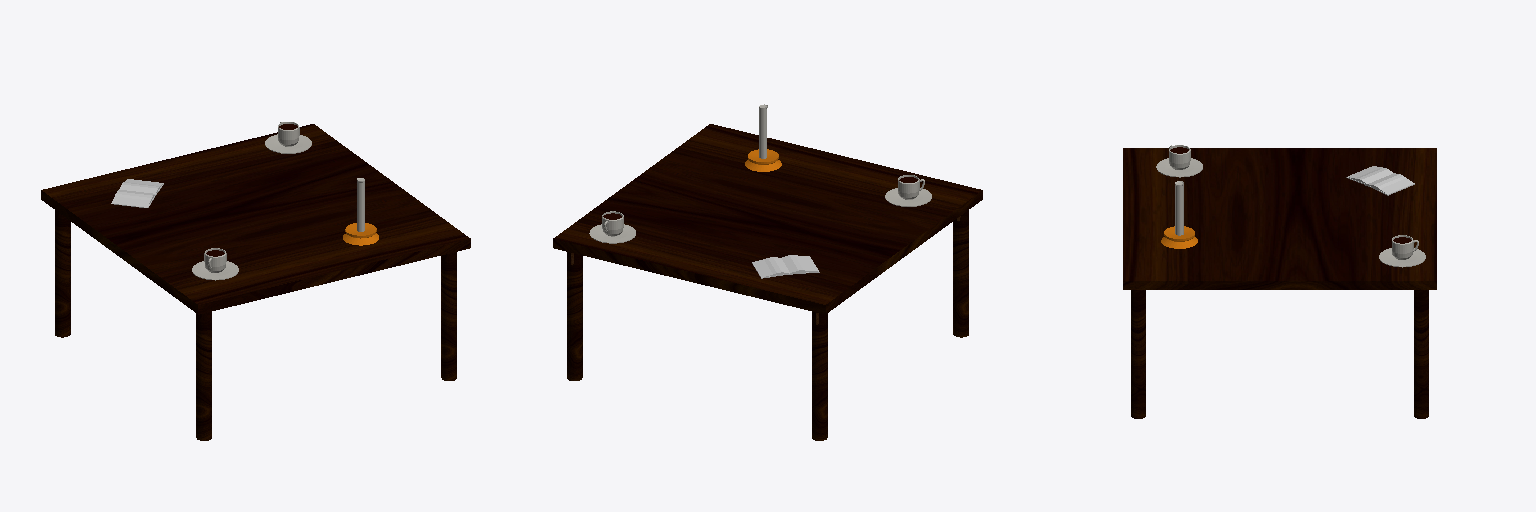
3 views of the same model, side by side, from view 1: azimuth 30°, elevation 25°; view 2: azimuth 150°, elevation 25°; view 3: azimuth 270°, elevation 25° (orthographic).
Parts seen in each view (by area): view 1: Table_Cylinder.003, Book_Pages_Cube.004, Coffe1_Cylinder.007, Coffe2_Cylinder.006, Candle_Post_Cylinder.004; view 2: Table_Cylinder.003, Book_Pages_Cube.004, Coffe1_Cylinder.007, Coffe2_Cylinder.006, Candle_Post_Cylinder.004; view 3: Table_Cylinder.003, Book_Pages_Cube.004, Coffe2_Cylinder.006, Coffe1_Cylinder.007, Candle_Post_Cylinder.004.
Boxes of the visible parts, x1,y1,x2,y2 form: Table_Cylinder.003: [41, 124, 470, 440]; Book_Pages_Cube.004: [112, 179, 162, 206]; Coffe1_Cylinder.007: [192, 248, 238, 280]; Coffe2_Cylinder.006: [265, 122, 311, 153]; Candle_Post_Cylinder.004: [343, 223, 378, 245]; Table_Cylinder.003: [553, 124, 982, 440]; Book_Pages_Cube.004: [753, 255, 817, 276]; Coffe1_Cylinder.007: [885, 175, 931, 206]; Coffe2_Cylinder.006: [589, 211, 635, 243]; Candle_Post_Cylinder.004: [745, 149, 781, 171]; Table_Cylinder.003: [1123, 148, 1436, 418]; Book_Pages_Cube.004: [1348, 166, 1413, 193]; Coffe2_Cylinder.006: [1379, 235, 1425, 267]; Coffe1_Cylinder.007: [1156, 145, 1202, 177]; Candle_Post_Cylinder.004: [1161, 226, 1197, 248].
Bounding box in the file's own units: 40 × 28.1 × 40.
Materials: 6 (1 with a texture image).